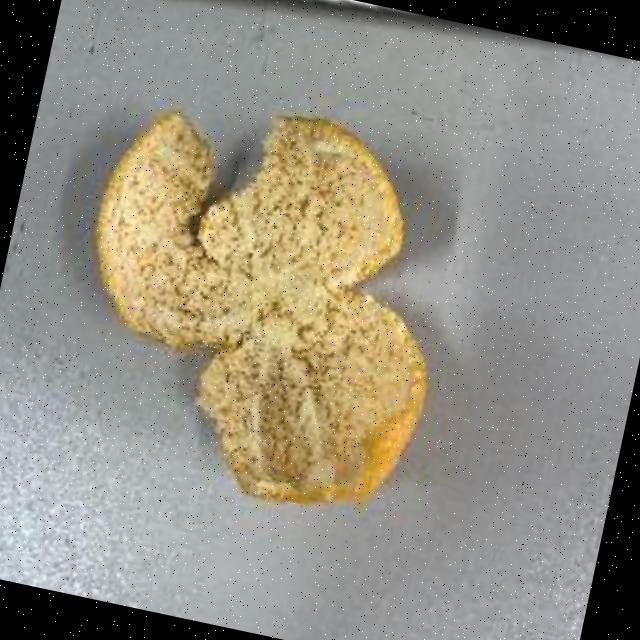orange-peel: (43, 72, 480, 530)
